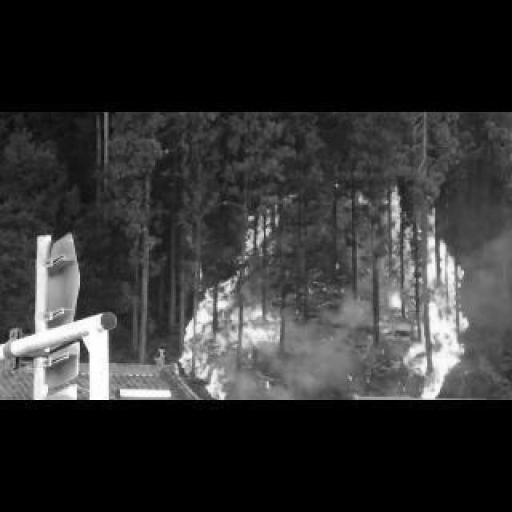smoke: (376, 186, 477, 398), (179, 205, 280, 398), (274, 290, 378, 394), (357, 195, 365, 203)
